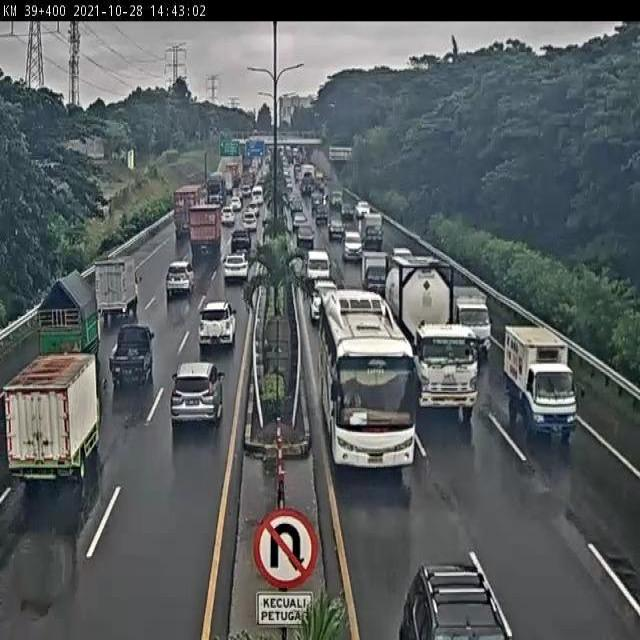big truck: (191, 205, 223, 255)
bus-l-: (319, 290, 423, 473)
car: (169, 358, 223, 426), (200, 295, 241, 340), (311, 279, 341, 324), (305, 249, 332, 288), (170, 257, 196, 291), (341, 231, 364, 265), (227, 249, 248, 275), (234, 228, 255, 249)
small truck: (1, 353, 106, 472), (48, 262, 111, 354), (115, 317, 161, 376), (106, 251, 151, 309)
truck-s-: (504, 325, 585, 443), (447, 284, 492, 353), (360, 250, 388, 294)
truck-xl-: (384, 252, 489, 425)
